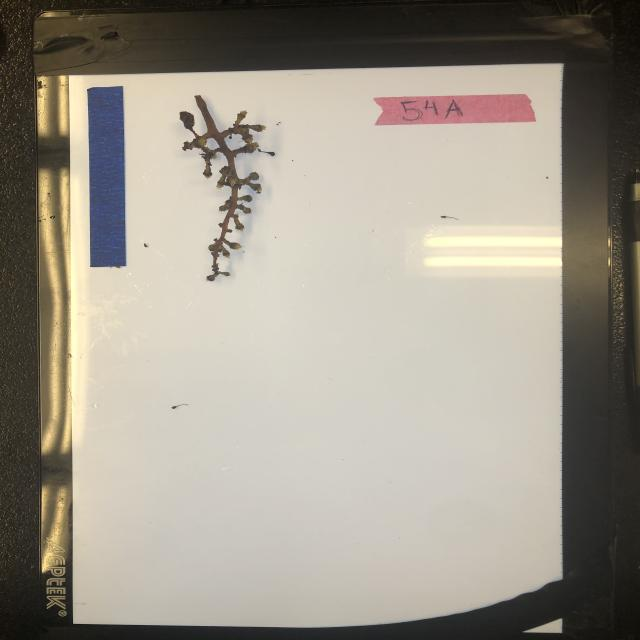index: (374, 93, 545, 130)
measure_label: (87, 84, 128, 268)
rachis_cluster: (174, 92, 278, 285)
